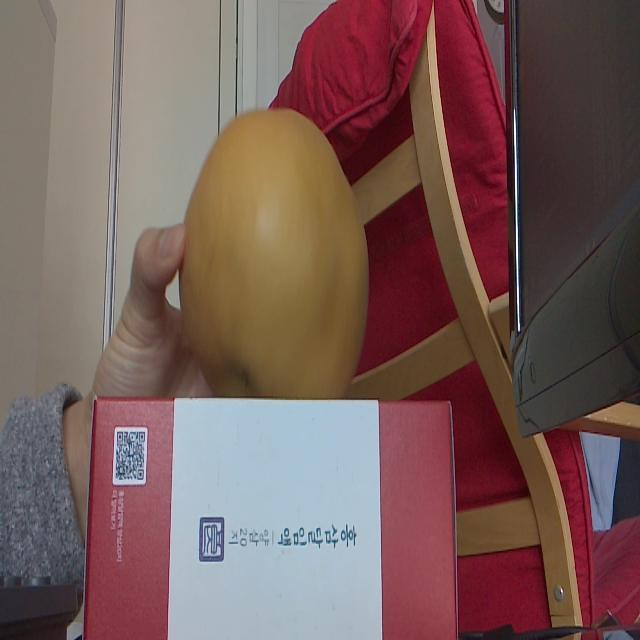pear: (180, 105, 370, 396)
